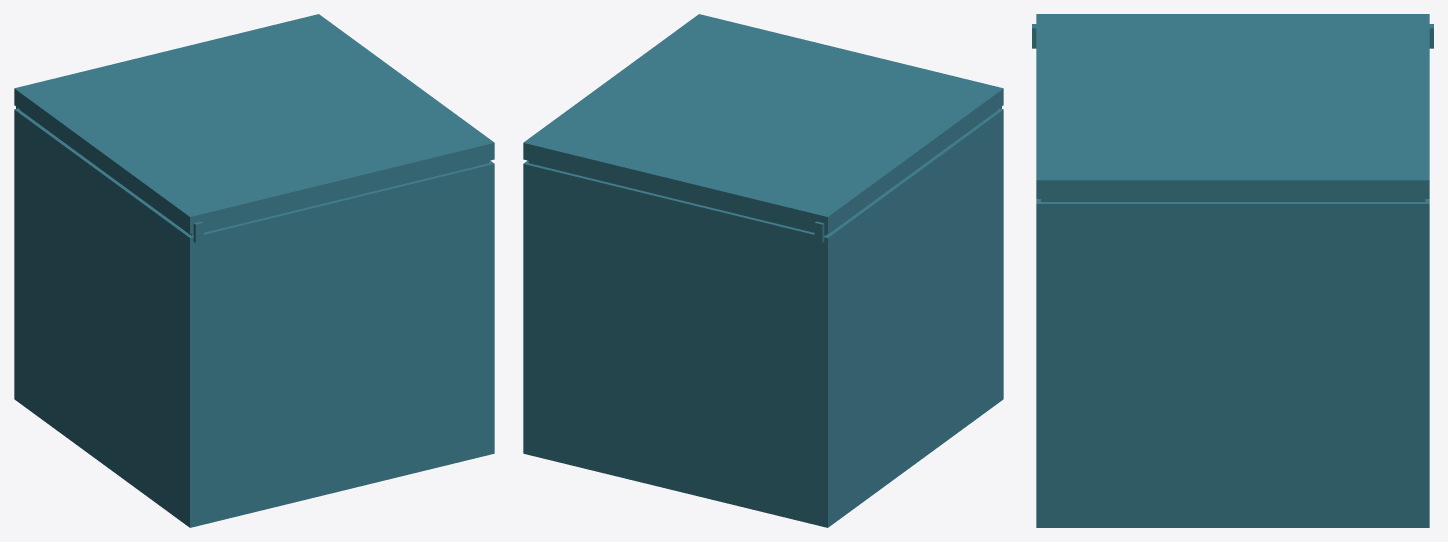
File: smallFloorRefregerator.fbx
The picture shows the model from 3 angles, left to right: view 1: azimuth 30°, elevation 25°; view 2: azimuth 150°, elevation 25°; view 3: azimuth 270°, elevation 25°; orthographic projection. The views are drawn at different scales.
Parts seen in each view (by area): view 1: refregerator, refregeratorDoor; view 2: refregerator, refregeratorDoor; view 3: refregerator, refregeratorDoor.
Part boxes in pixels (x1,y1,x2,y2): refregerator: (14, 108, 494, 527); refregeratorDoor: (14, 14, 494, 235); refregerator: (523, 108, 1003, 527); refregeratorDoor: (523, 14, 1003, 235); refregerator: (1036, 199, 1429, 527); refregeratorDoor: (1036, 14, 1429, 201).
Size of the model in its own units: 150 by 146 by 153.
